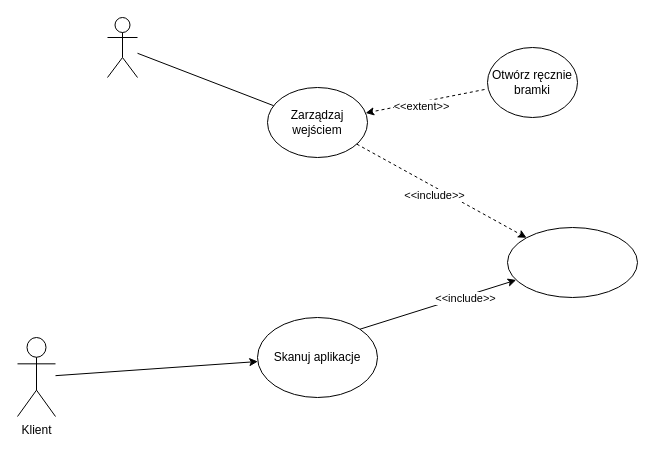
Some shapes in this 655 by 455 pixel diagram are drawn without their labels. Each missing label, with the centre of its shape:
"Recepcjonista" belongs at (122,47).
"Wejdź" belongs at (572,262).
